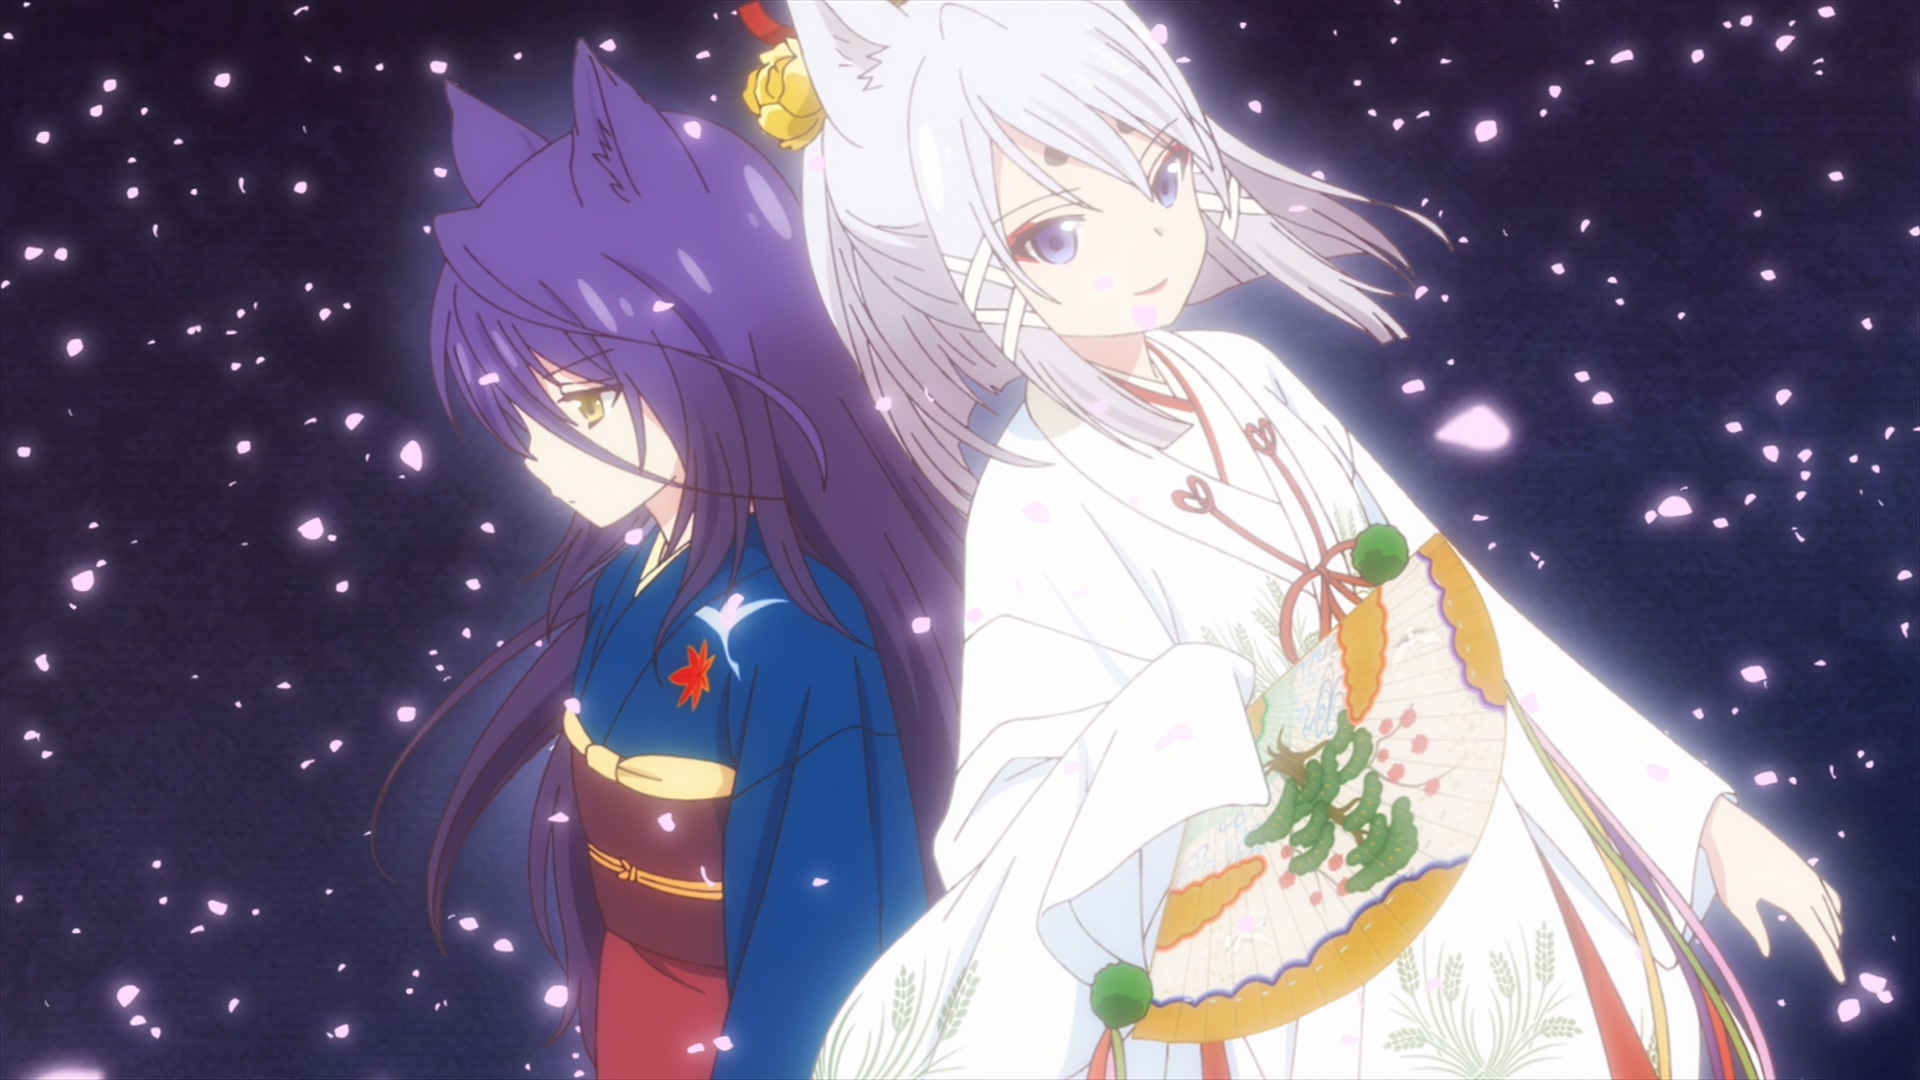柊: (741, 1, 1845, 1080)
皋: (367, 38, 967, 1080)
